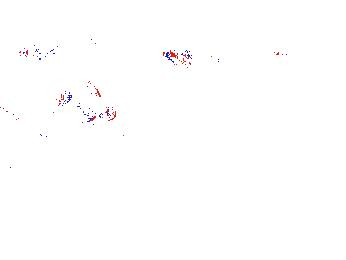X-ray fish: (76, 12, 126, 49)
glassfish: (66, 105, 136, 150), (1, 104, 55, 153)
red belly glassfish: (161, 47, 218, 65), (19, 43, 57, 60), (271, 48, 303, 60)
redtail glassfish: (59, 83, 118, 121)
